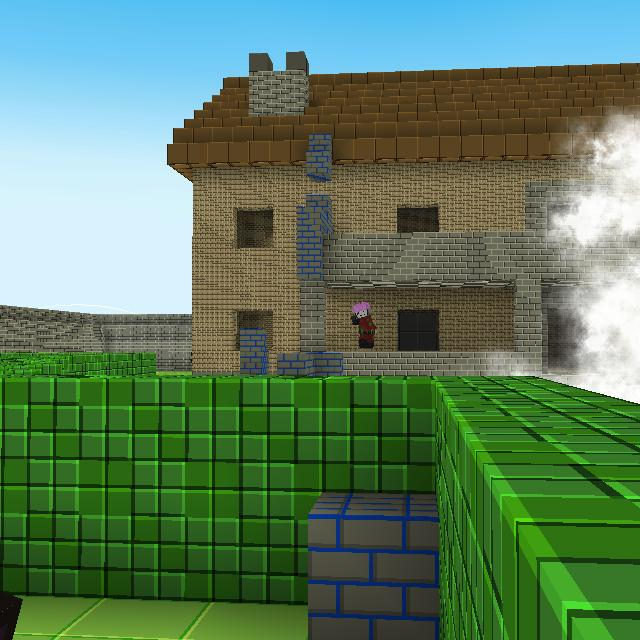enemy: (352, 300, 375, 349)
